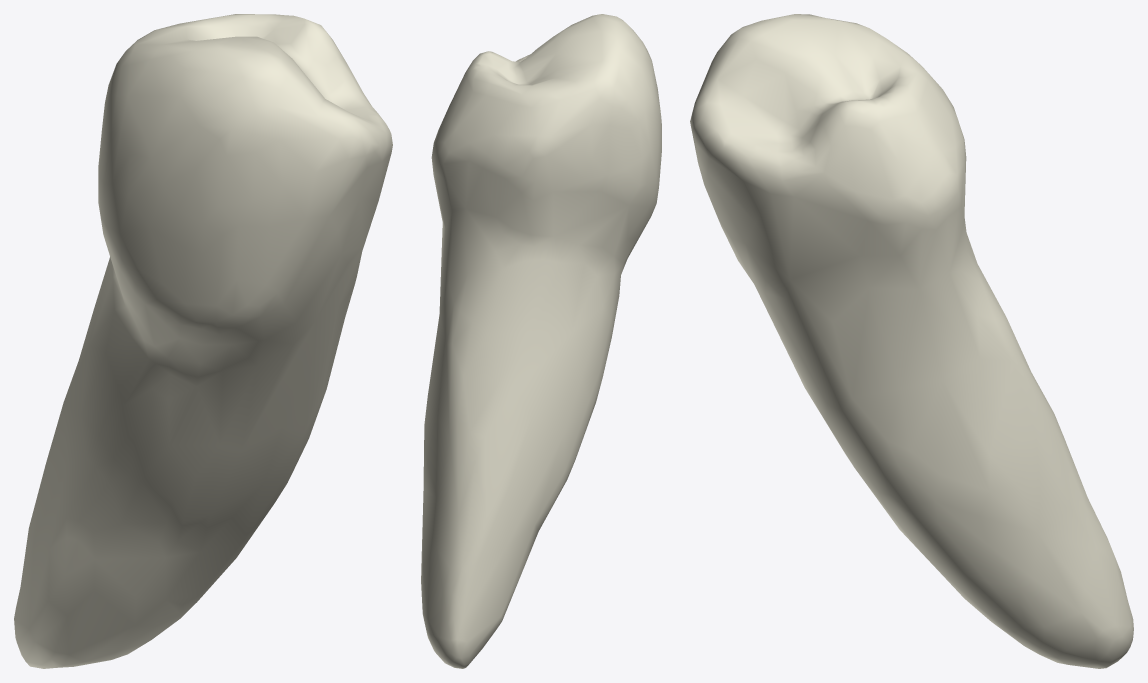
File: Right first lower premolar tooth.fbx
3 views of the same model, side by side, from view 1: azimuth 30°, elevation 25°; view 2: azimuth 150°, elevation 25°; view 3: azimuth 270°, elevation 25° (orthographic). The views are drawn at different scales.
Parts seen in each view (by area): view 1: Right first lower premolar tooth; view 2: Right first lower premolar tooth; view 3: Right first lower premolar tooth.
Boxes of the visible parts, box(x1,y1,x2,y2) form: Right first lower premolar tooth: box(14, 14, 392, 668); Right first lower premolar tooth: box(421, 14, 661, 668); Right first lower premolar tooth: box(690, 14, 1133, 668).
Size of the model in its own units: 1.06 by 3 by 1.89.
